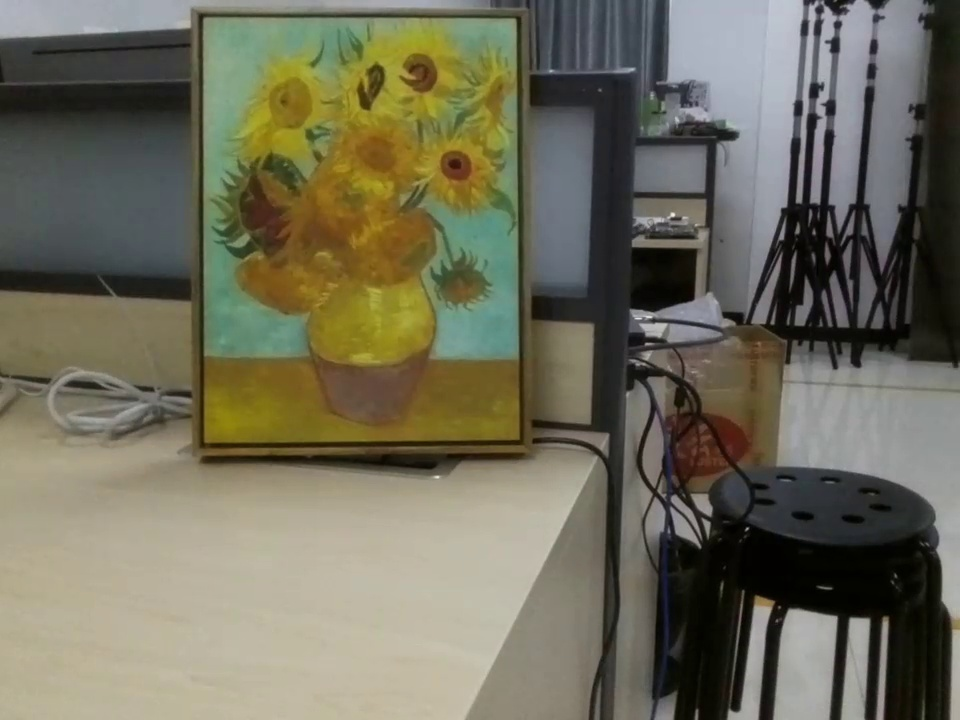painting: (194, 10, 547, 460)
